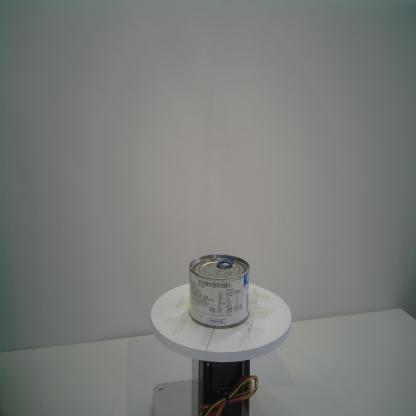Canned Food: (187, 254, 253, 330)
